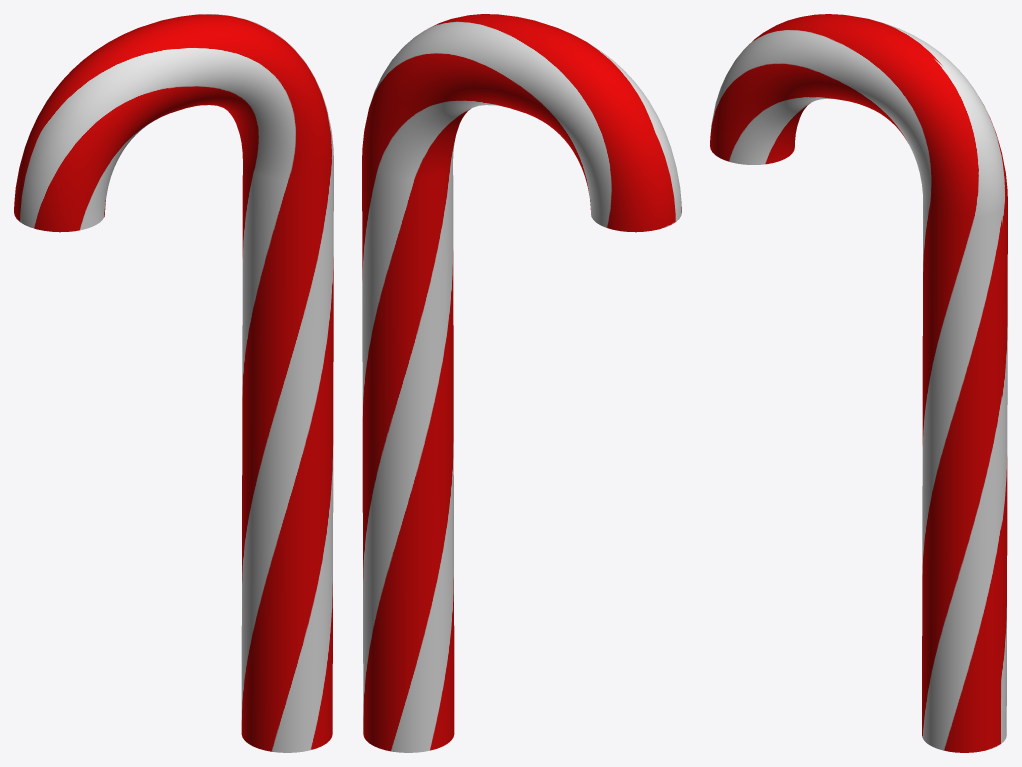
File: candy.glb
The picture shows the model from 3 angles, left to right: view 1: azimuth 30°, elevation 25°; view 2: azimuth 150°, elevation 25°; view 3: azimuth 330°, elevation 25°; orthographic projection. The views are drawn at different scales.
Visible parts, largest first — view 1: Sweep-Nuovo; view 2: Sweep-Nuovo; view 3: Sweep-Nuovo.
Boxes of the visible parts, x1,y1,x2,y2 form: Sweep-Nuovo: (14, 14, 333, 752); Sweep-Nuovo: (362, 14, 681, 752); Sweep-Nuovo: (710, 14, 1007, 752).
Size of the model in its own units: 19.51 by 44.76 by 5.
Materials: 2 (1 with a texture image).
